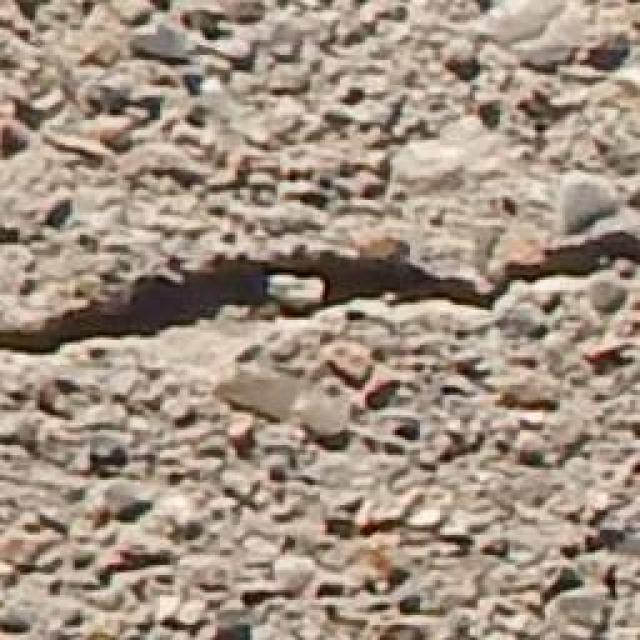concrete-crack: (1, 224, 640, 363)
